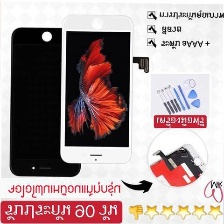phone: (7, 23, 85, 181), (58, 11, 135, 166)
